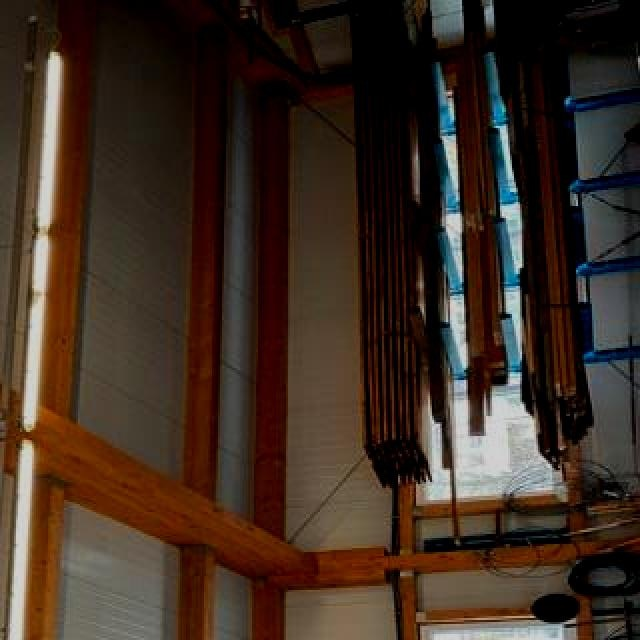fluorescent tube: (3, 227, 65, 435), (16, 38, 80, 231), (0, 432, 52, 640)
